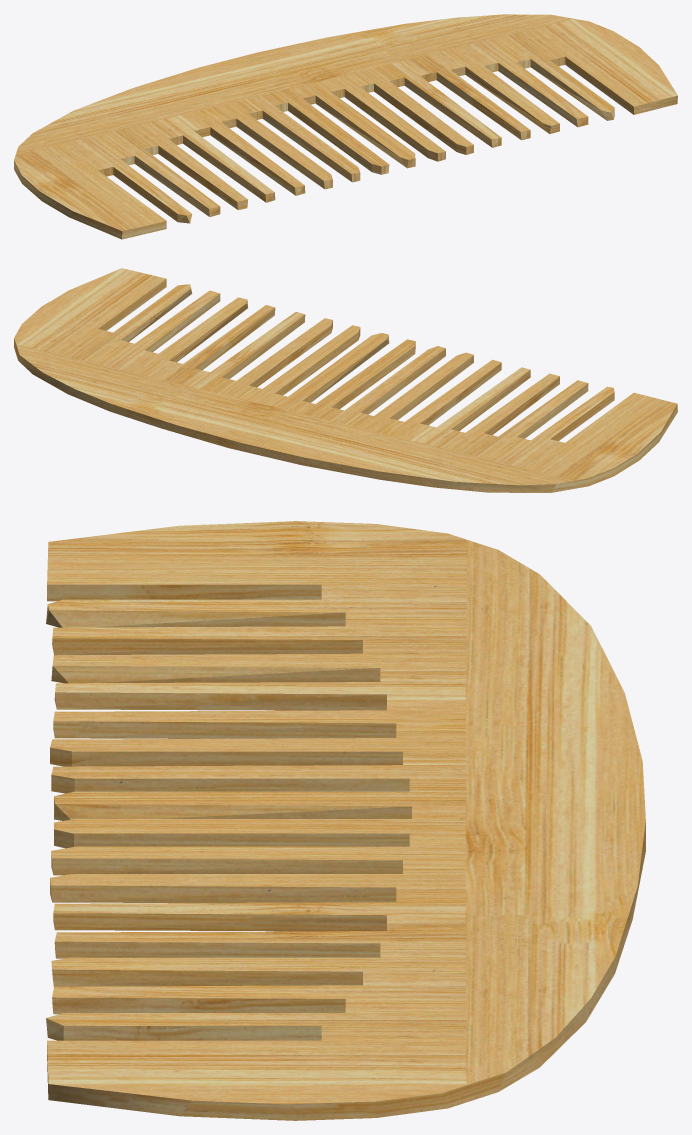
Rendered from hair_comb.glb.
The picture shows the model from 3 angles, top to bottom: view 1: azimuth 30°, elevation 25°; view 2: azimuth 150°, elevation 25°; view 3: azimuth 270°, elevation 25°; orthographic projection. The views are drawn at different scales.
Visible parts, largest first — view 1: hair_comb; view 2: hair_comb; view 3: hair_comb.
Boxes of the visible parts, bbox=[...] form: hair_comb: bbox=[14, 14, 677, 239]; hair_comb: bbox=[14, 268, 677, 492]; hair_comb: bbox=[46, 521, 645, 1120].
Size of the model in its own units: 0.1217 by 0.00161 by 0.0529.
1 material, 1 textured.
